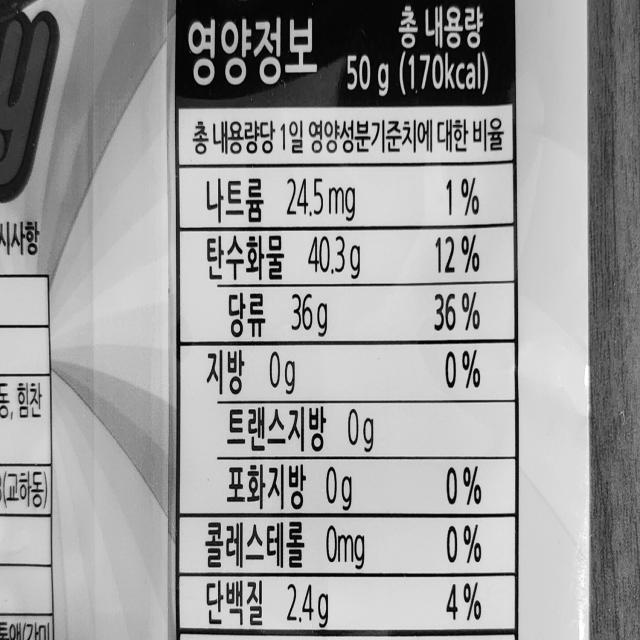Nutrition Label: (170, 1, 525, 639)
